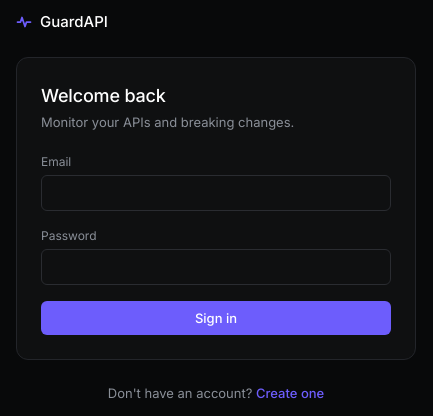
Test: LoginPage › disables the submit button while the request is in flight
Type "a@b.com" into the field labelled "Email" at (216, 193), box [41,175,391,211]
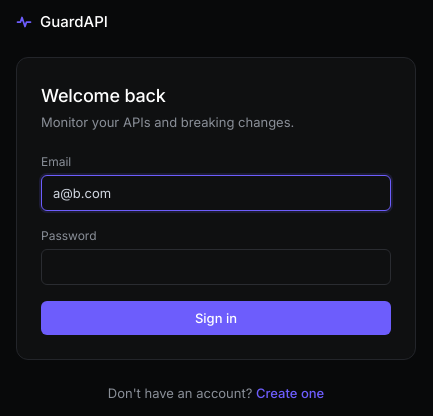
Type "password123" into the password field labelled "Password" at (216, 267), box [41,249,391,285]
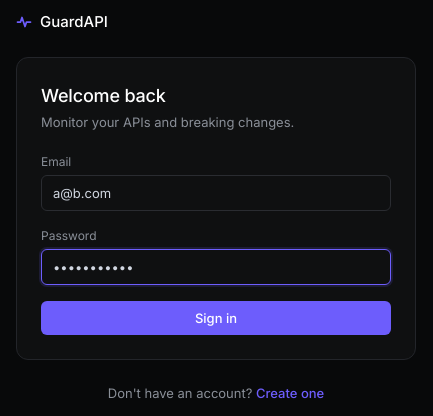
Click the button "Sign in" at (216, 318), box [41,301,391,335]
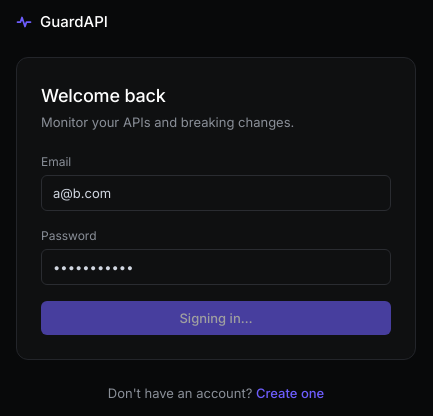
Expected: the button "Signing in…" is disabled, [41,301,391,335]
